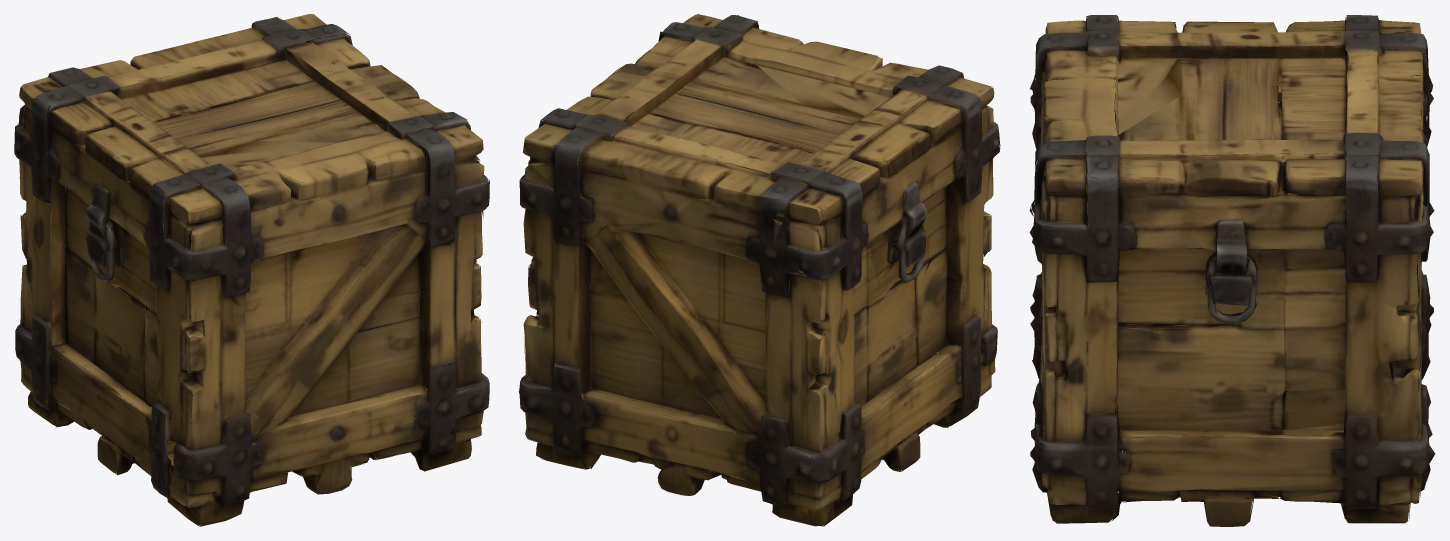
File: cajon_grande.glb
The picture shows the model from 3 angles, left to right: view 1: azimuth 30°, elevation 25°; view 2: azimuth 150°, elevation 25°; view 3: azimuth 270°, elevation 25°; orthographic projection. The views are drawn at different scales.
Parts seen in each view (by area): view 1: geometry_0; view 2: geometry_0; view 3: geometry_0.
Boxes of the visible parts, x1=… form: geometry_0: x1=14, y1=14, x2=489, y2=526; geometry_0: x1=519, y1=14, x2=1000, y2=526; geometry_0: x1=1029, y1=15, x2=1435, y2=526.
Size of the model in its own units: 1.6 by 1.6 by 1.61.
1 material, 1 textured.
